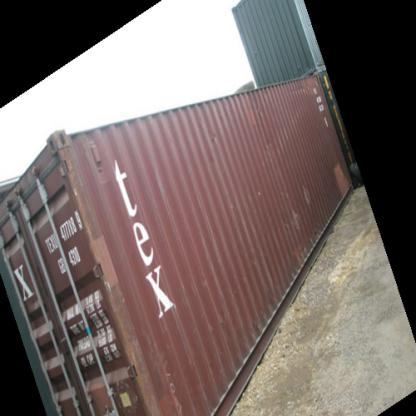Damage: (124, 322, 188, 403), (255, 128, 281, 162), (284, 238, 312, 264), (298, 175, 316, 209), (204, 121, 226, 145)
